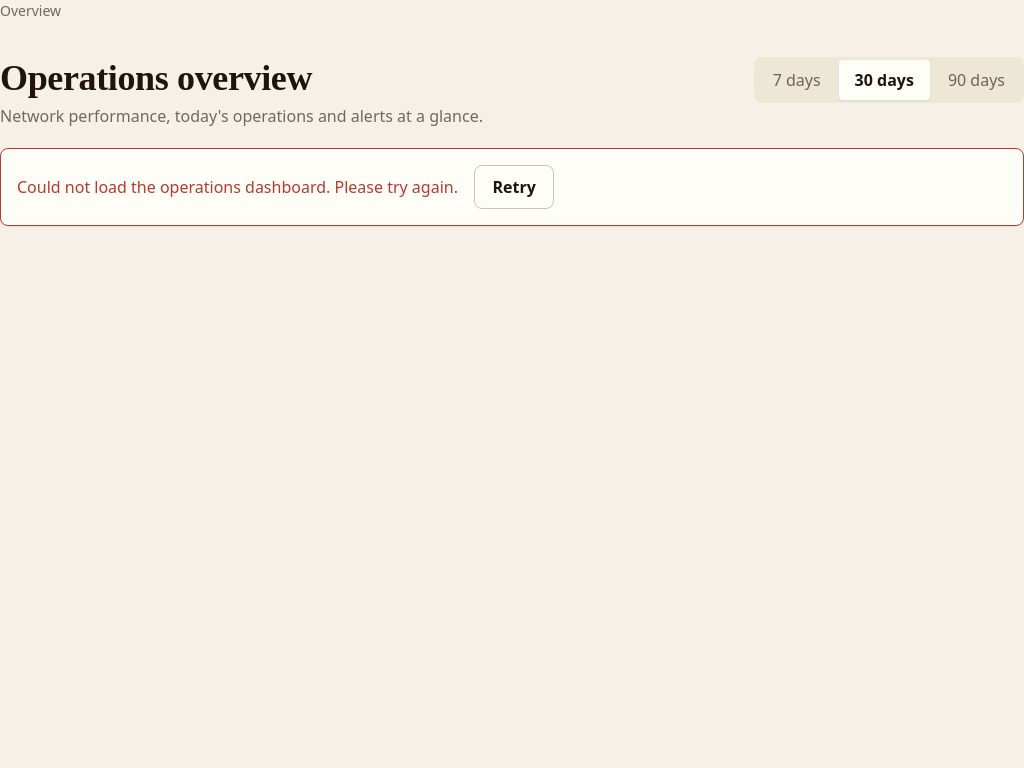
Scenario: DashboardPage › shows an error state with retry when the API fails
Step 1. Click the button "Retry" → click(514, 187), box [474,165,554,209]
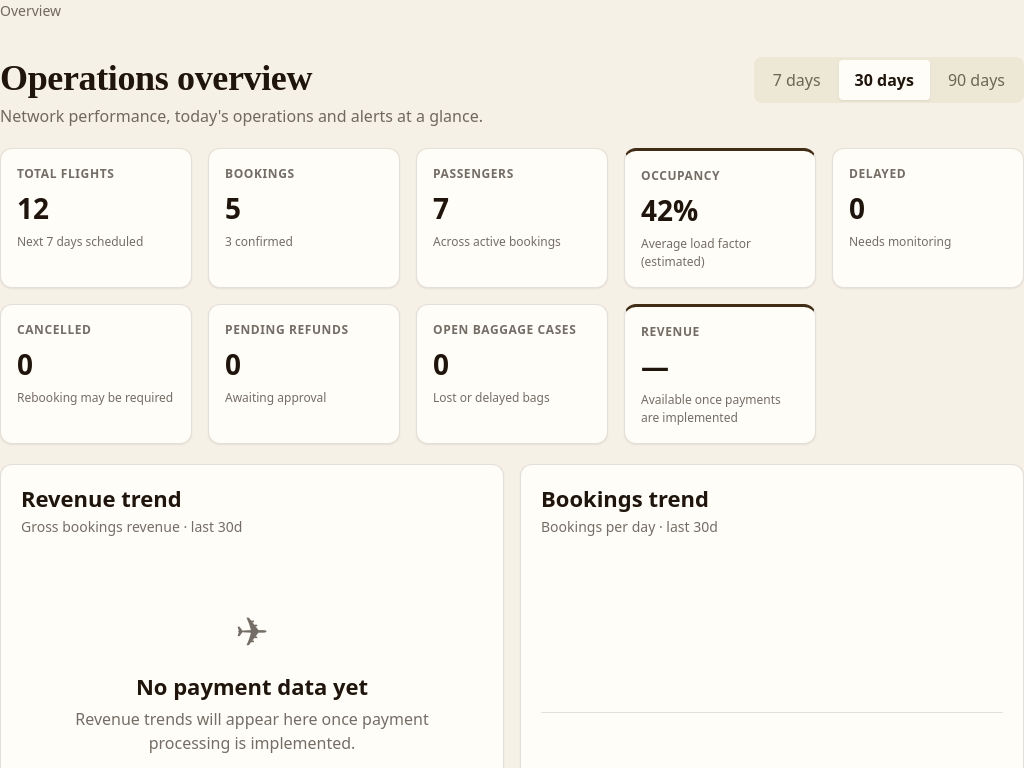
expect the text "Total flights" is shown: met, box [17,165,114,182]
